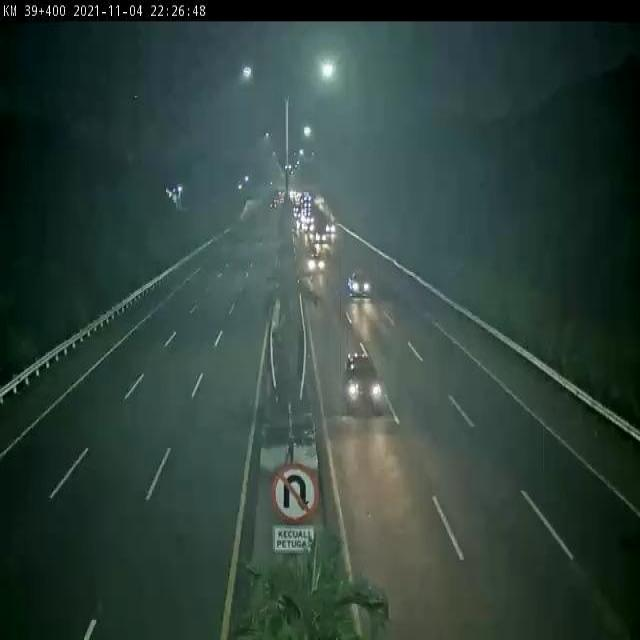Car: (335, 340, 389, 432), (343, 260, 380, 311), (300, 242, 329, 288)
